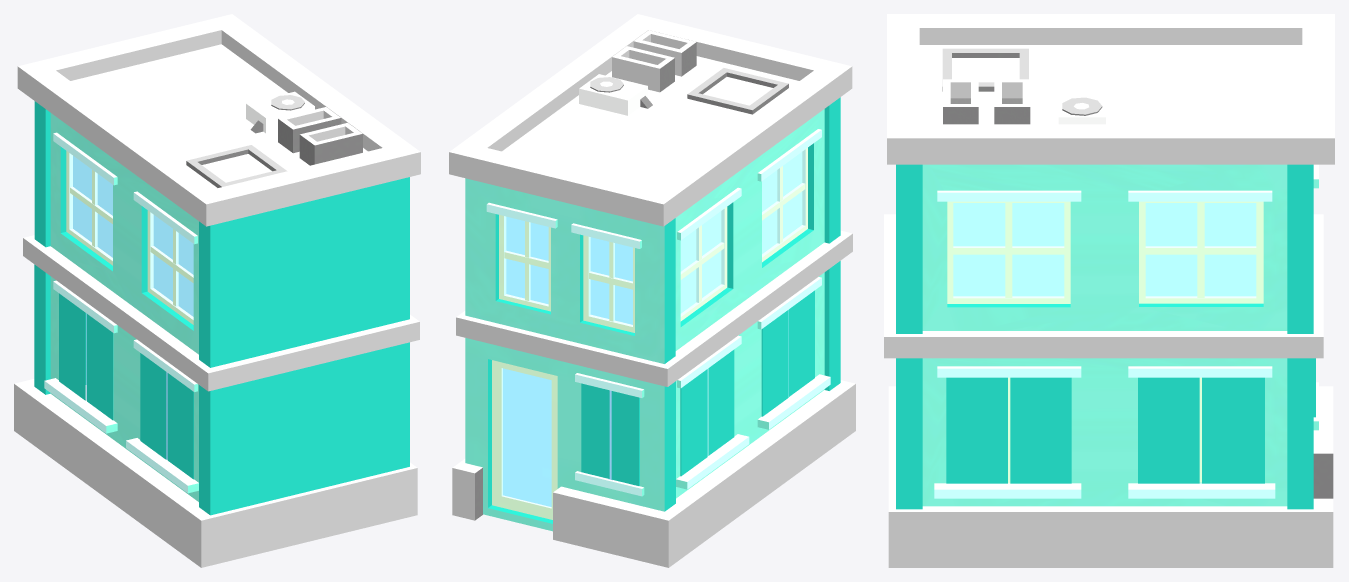
File: dwelling.003.glb
3 renders of one model, left to right at view 1: azimuth 30°, elevation 25°; view 2: azimuth 150°, elevation 25°; view 3: azimuth 270°, elevation 25°, orthographic. The views are drawn at different scales.
Parts seen in each view (by area): view 1: dwelling.003(Clone); view 2: dwelling.003(Clone); view 3: dwelling.003(Clone).
Boxes of the visible parts, <box> form: dwelling.003(Clone): <box>14,14,420,567</box>; dwelling.003(Clone): <box>449,14,855,567</box>; dwelling.003(Clone): <box>884,14,1334,567</box>.
Size of the model in its own units: 3.61 by 5.87 by 5.42.
1 material, 1 textured.
